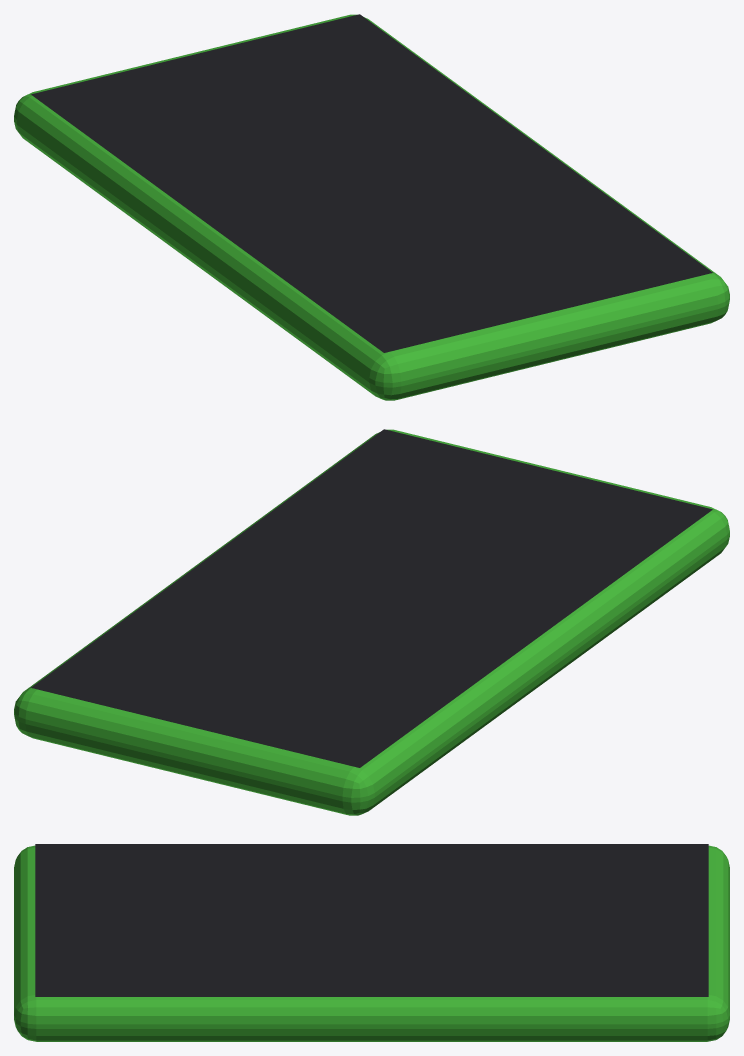
File: samsung-gen-2022-budget-2022.glb
3 views of the same model, one above another, from view 1: azimuth 30°, elevation 25°; view 2: azimuth 150°, elevation 25°; view 3: azimuth 270°, elevation 25° (orthographic). The views are drawn at different scales.
Parts seen in each view (by area): view 1: Phone_Screen, Phone_Body; view 2: Phone_Screen, Phone_Body; view 3: Phone_Screen, Phone_Body.
Boxes of the visible parts, x1=… form: Phone_Screen: x1=31, y1=14, x2=712, y2=352; Phone_Body: x1=14, y1=14, x2=729, y2=400; Phone_Screen: x1=31, y1=429, x2=712, y2=767; Phone_Body: x1=14, y1=429, x2=729, y2=815; Phone_Screen: x1=35, y1=844, x2=708, y2=996; Phone_Body: x1=14, y1=845, x2=729, y2=1041.
Size of the model in its own units: 0.0784 by 0.01 by 0.1427.
